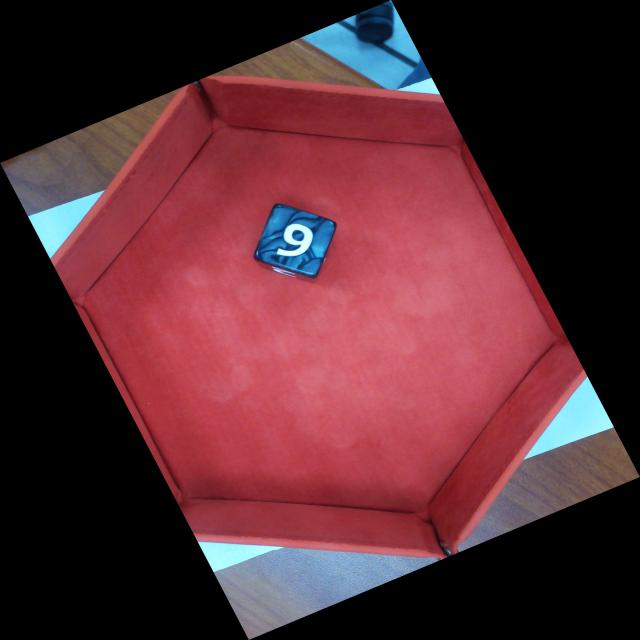dice: (259, 212, 335, 272)
